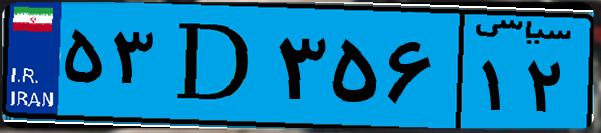1: (475, 38, 525, 113)
2: (525, 38, 570, 115)
3: (270, 28, 330, 110), (110, 28, 158, 98)
5: (330, 28, 385, 110), (57, 26, 110, 100)
6: (385, 28, 445, 110)
D: (158, 12, 270, 120)
